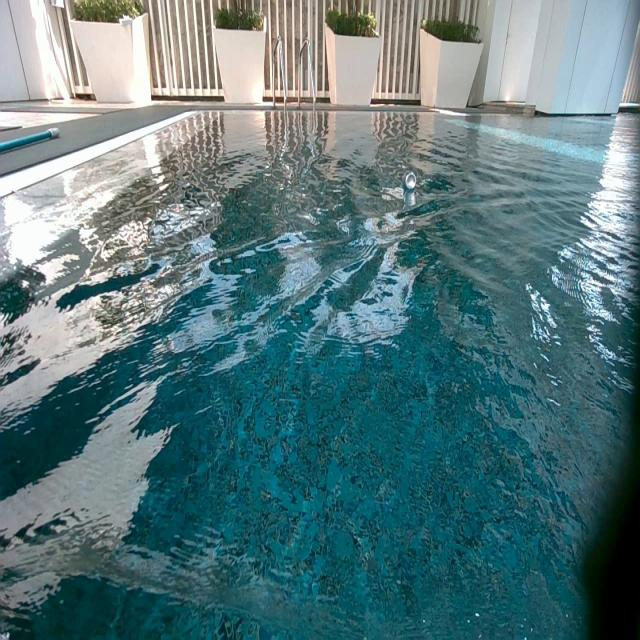Cans: (405, 172, 418, 188)
